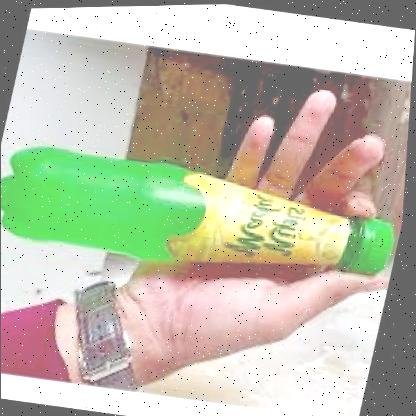Plastic Bottle: (3, 146, 396, 276)
